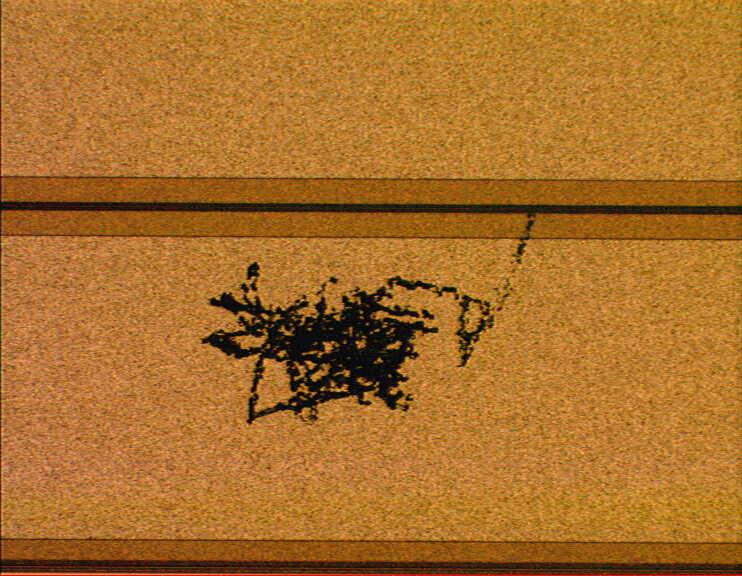SCRATCH: (194, 195, 548, 434)
